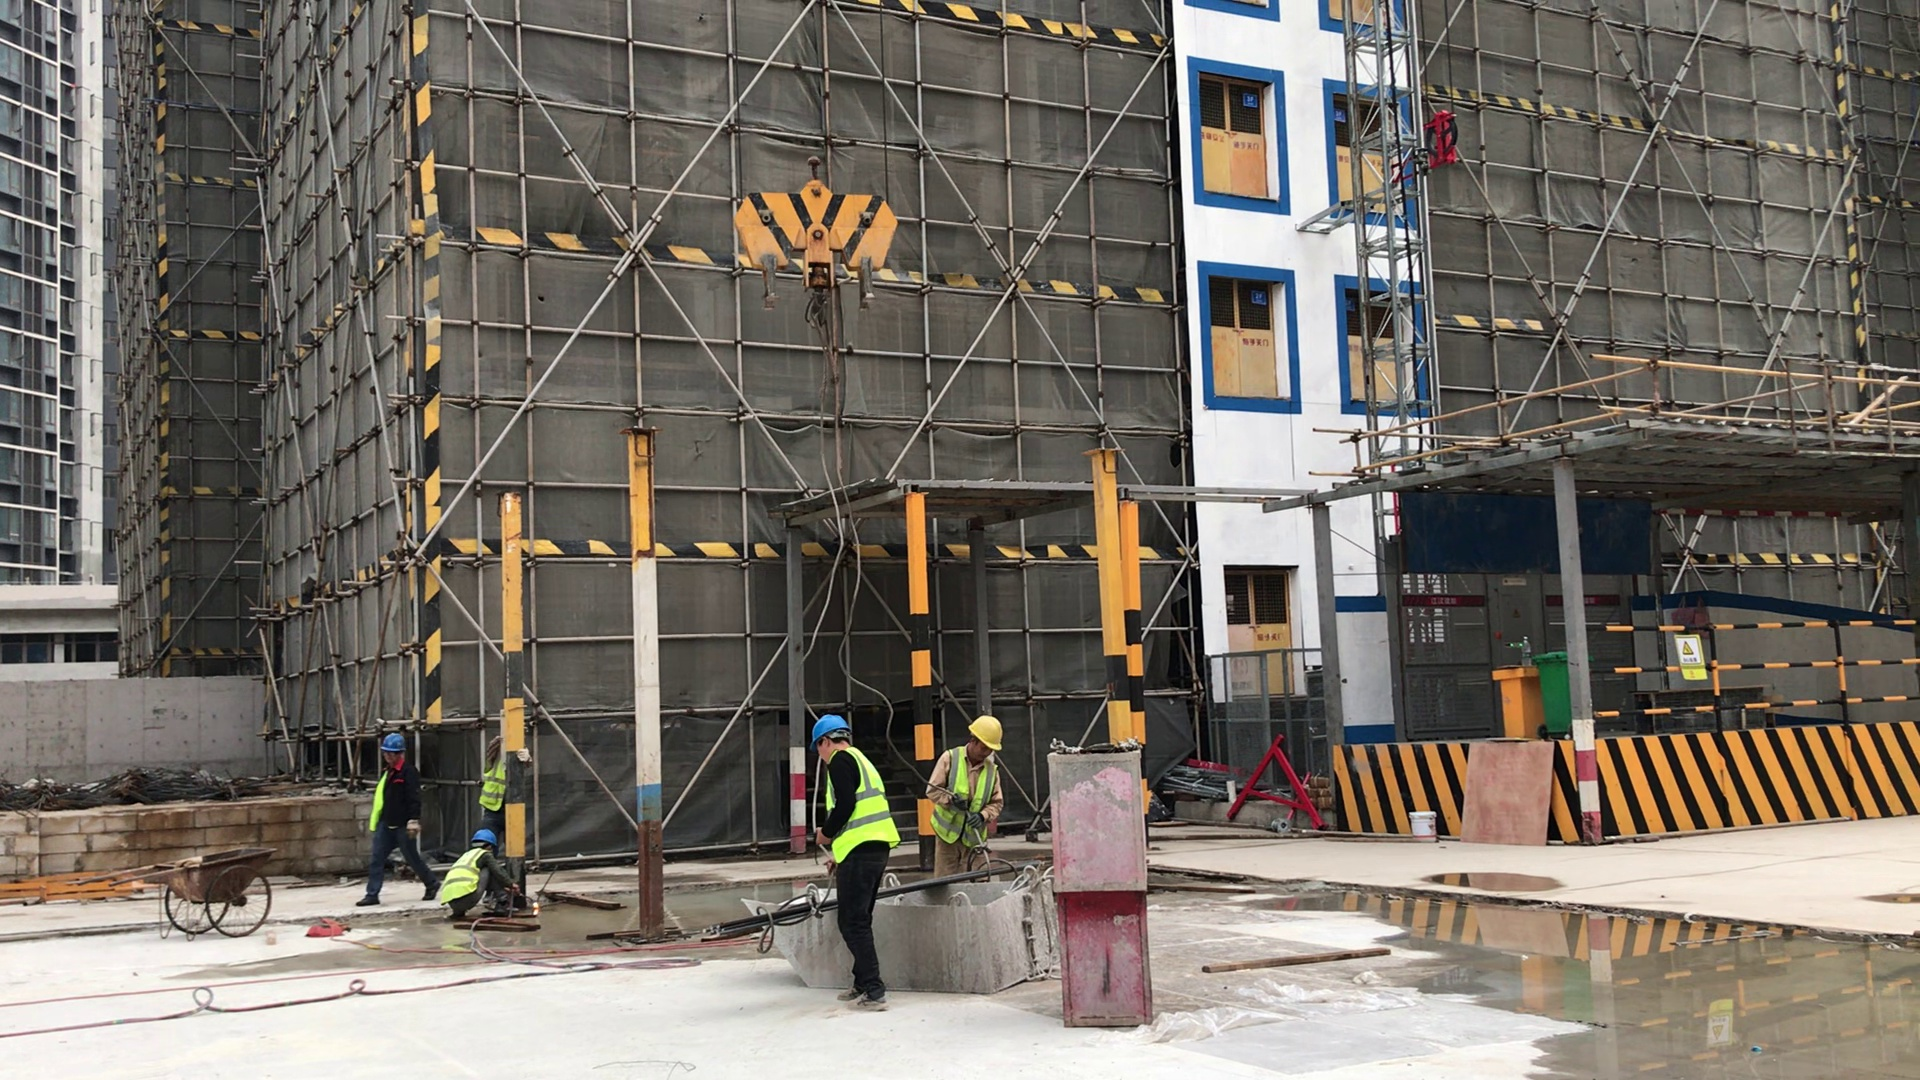fence: (1565, 611, 1920, 748)
handcart: (79, 823, 302, 958)
helmet: (962, 704, 1012, 760), (379, 724, 419, 765), (808, 707, 848, 749), (470, 822, 511, 858), (417, 760, 419, 765)
hook: (714, 147, 907, 347)
hopper: (735, 862, 1065, 1005)
person: (786, 674, 912, 1022), (912, 685, 1029, 899), (432, 812, 562, 935), (361, 714, 435, 903), (471, 723, 538, 833)
rebar: (694, 892, 823, 950), (890, 862, 1031, 896)
slogan: (1673, 626, 1715, 697)
vest: (809, 745, 907, 864), (933, 742, 1003, 851), (429, 842, 505, 911), (349, 758, 403, 841), (474, 739, 516, 816)
